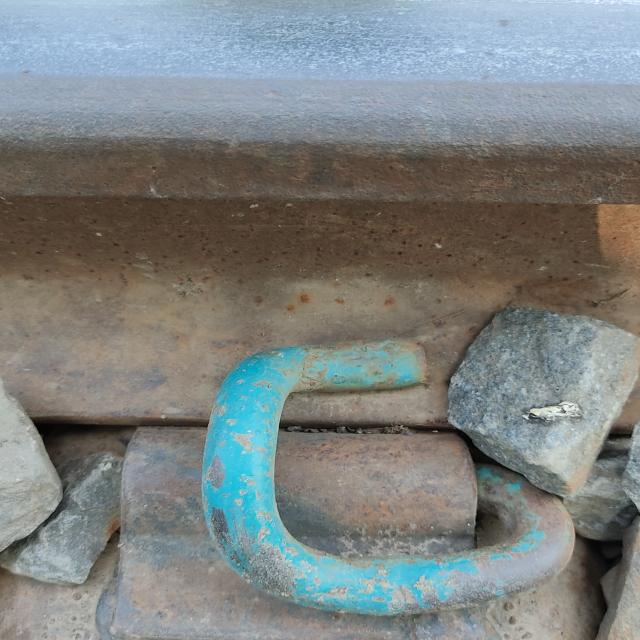track_bolt: (192, 330, 588, 623)
